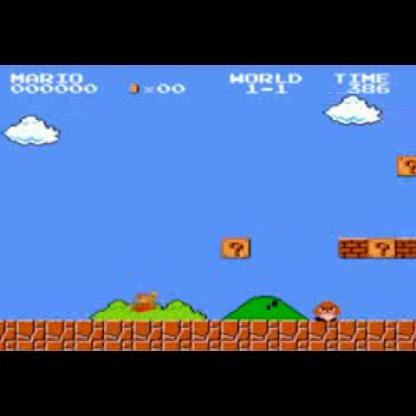Goomba: (312, 299, 339, 323)
